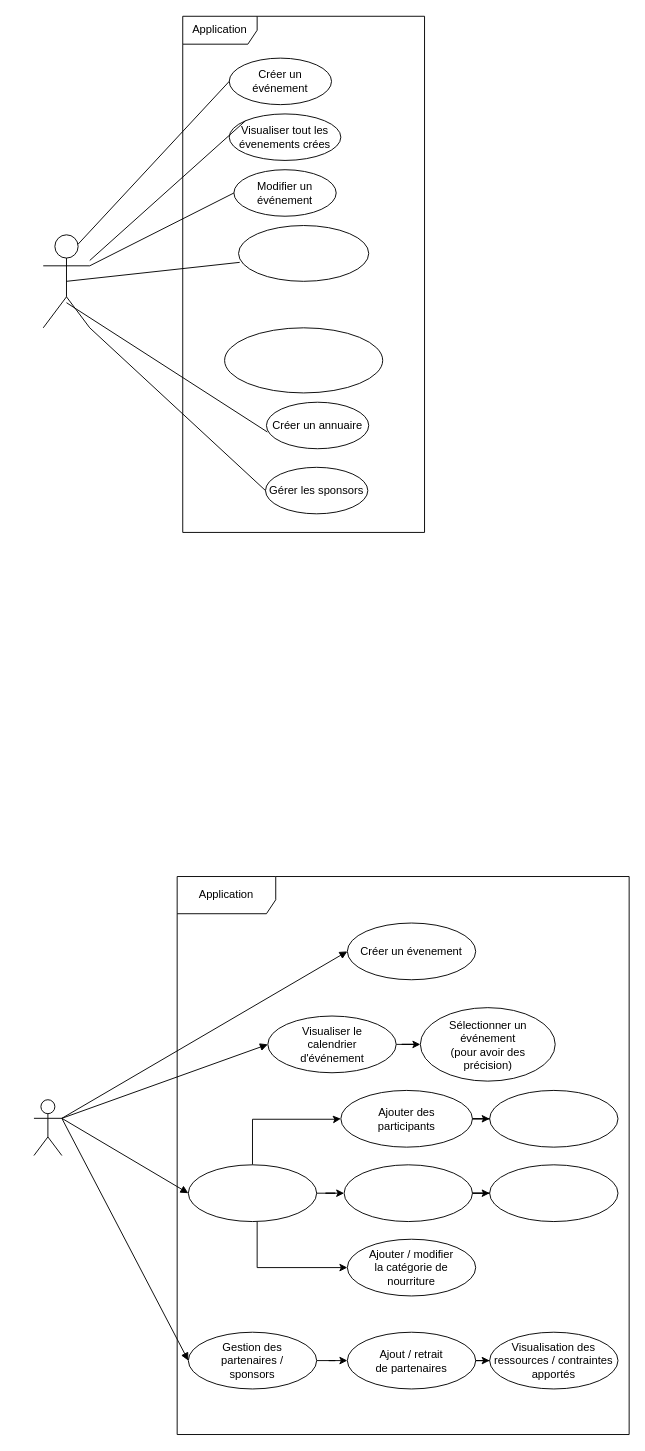
This 645x1451 diagram has some shape labels left out. Each missing label, with the box of its shape:
Ajouter / modifier la date: (489, 1164, 618, 1222)
Ajouter / modifier un lieu: (343, 1164, 472, 1222)
Générer un classement en fonction de la moyenne des notes: (224, 327, 383, 393)
Leur assigner un rôle: (489, 1089, 618, 1147)
Organisateur: (33, 1099, 62, 1156)
Saisir les notes du jury pour un participant: (238, 225, 369, 281)
utilisateur: (42, 234, 90, 328)
Éditer un événement: (187, 1164, 317, 1222)
